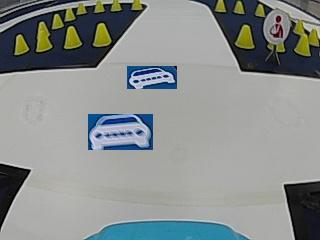cone: (235, 24, 254, 49), (92, 22, 111, 47), (63, 25, 82, 49), (36, 23, 52, 50), (295, 34, 310, 56), (14, 33, 29, 54), (308, 27, 319, 45), (52, 13, 64, 28), (233, 1, 245, 14), (93, 0, 105, 13), (294, 19, 305, 33), (110, 0, 122, 12), (76, 2, 87, 15), (64, 8, 75, 20), (215, 0, 226, 12), (130, 0, 142, 11), (255, 3, 265, 16)
patient: (265, 9, 290, 41)
